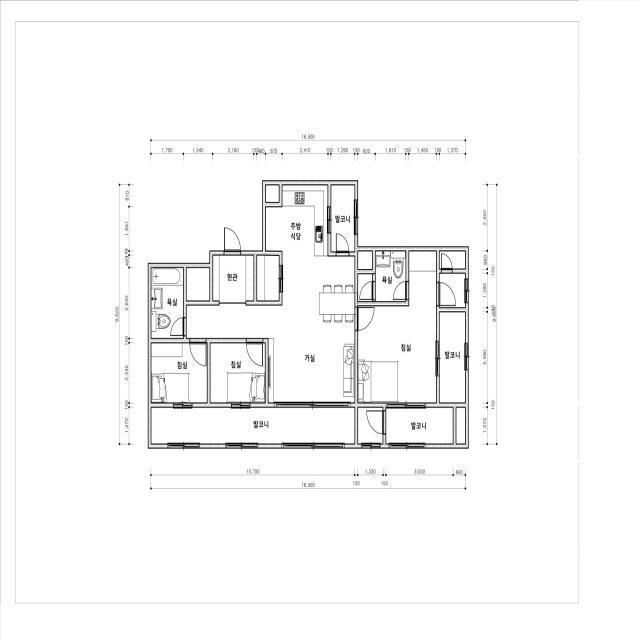space_balconi: (151, 408, 355, 444), (386, 408, 453, 444), (440, 312, 465, 403), (331, 185, 355, 251)
space_bedroom: (358, 251, 436, 403), (151, 343, 207, 403), (210, 343, 265, 403)
space_dressroom: (439, 274, 465, 307), (440, 251, 465, 269)
space_front: (213, 256, 254, 303)
space_kitchen: (266, 185, 328, 256)
space_living_room: (187, 256, 355, 403)
space_other: (257, 256, 279, 301), (358, 408, 383, 444), (187, 268, 210, 301), (456, 408, 465, 444), (358, 251, 372, 269), (266, 185, 279, 202)
space_toilet: (151, 268, 183, 338), (376, 251, 406, 301), (358, 274, 372, 301)
